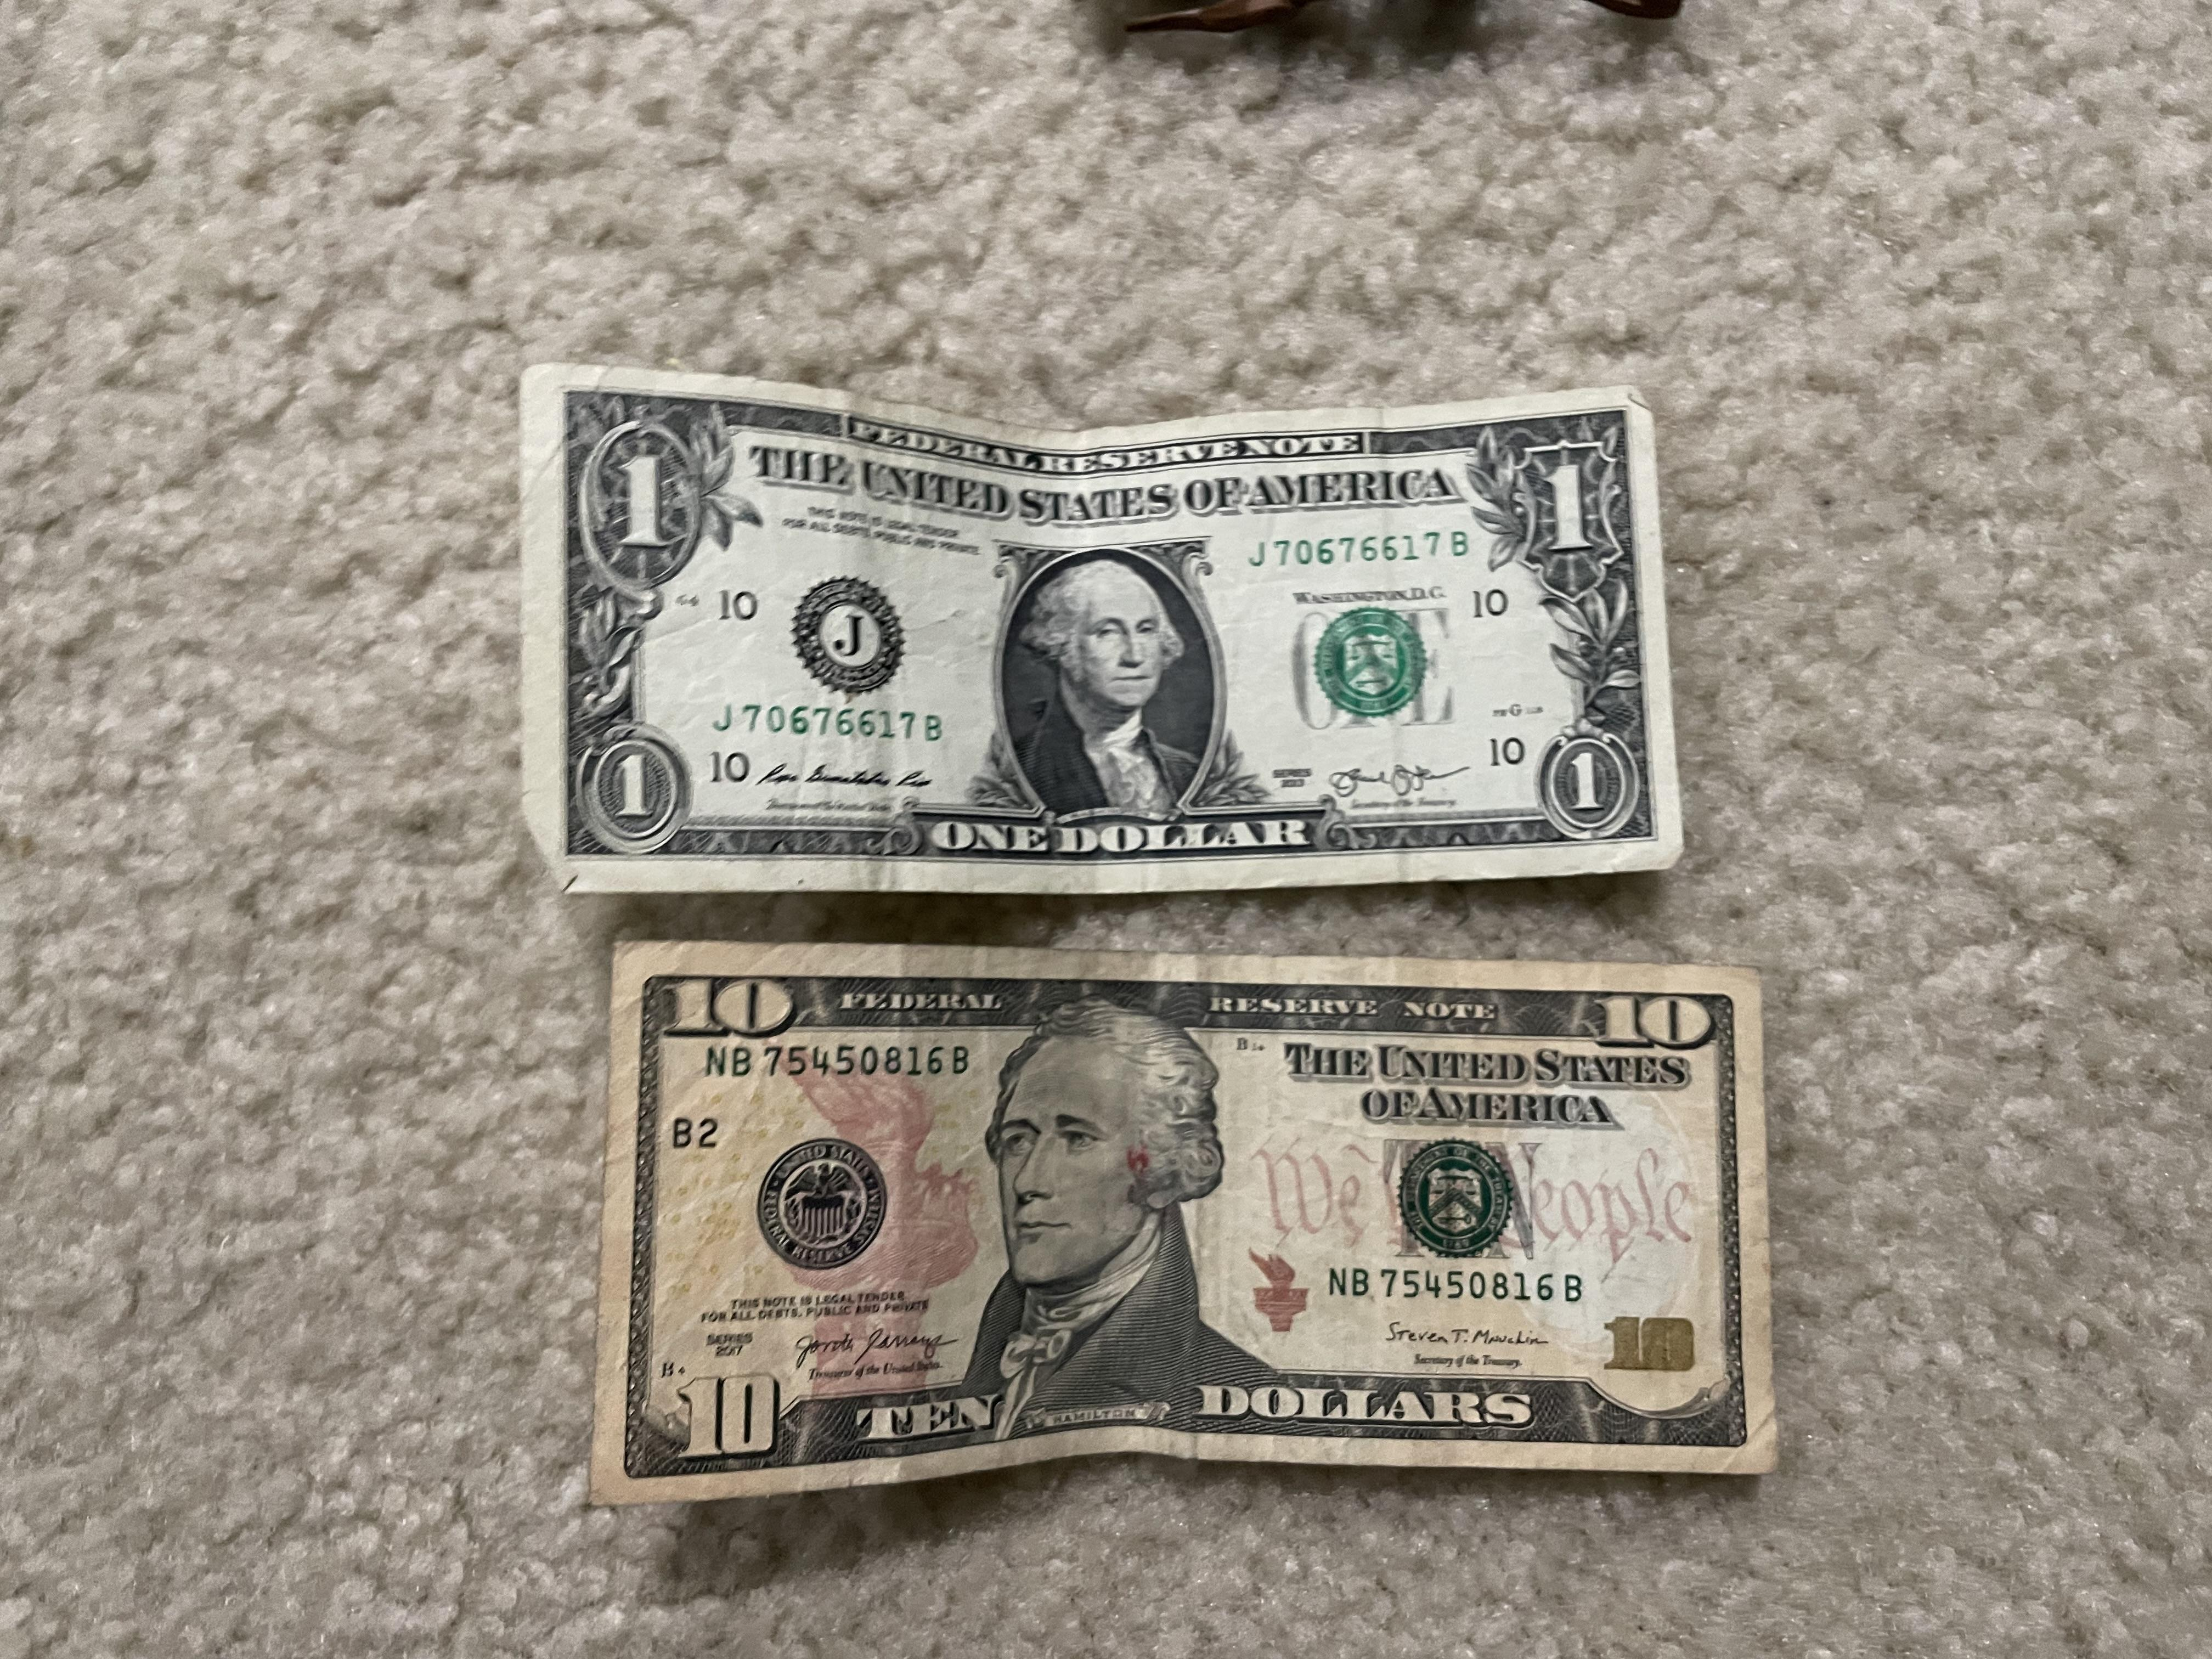OneBill: (482, 368, 1742, 913)
TenBill: (554, 918, 1815, 1521)
